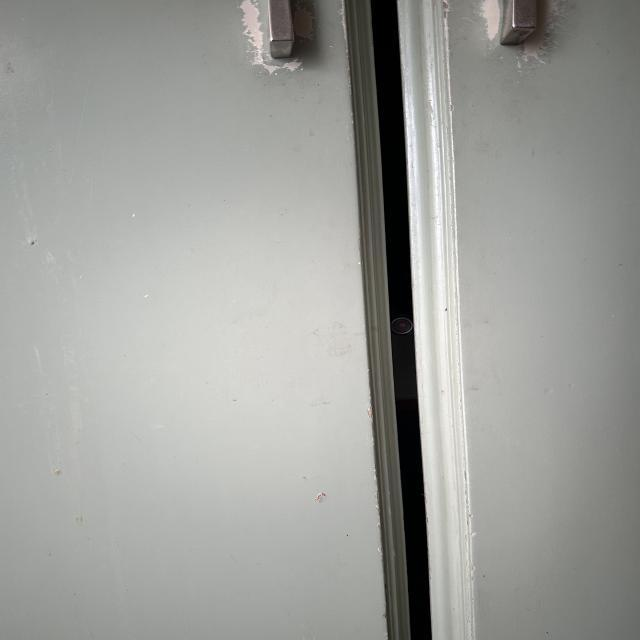hidden camera: (389, 317, 414, 335)
